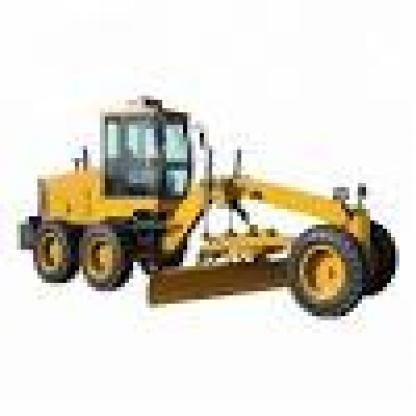bull_dozer/loader/grader: (8, 79, 412, 325)
